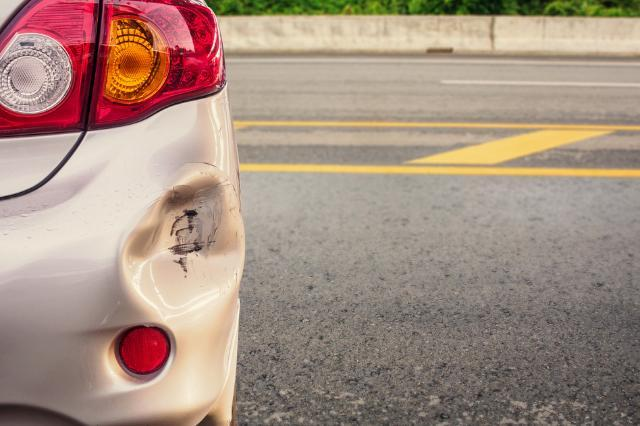Bumper: (100, 154, 247, 395)
